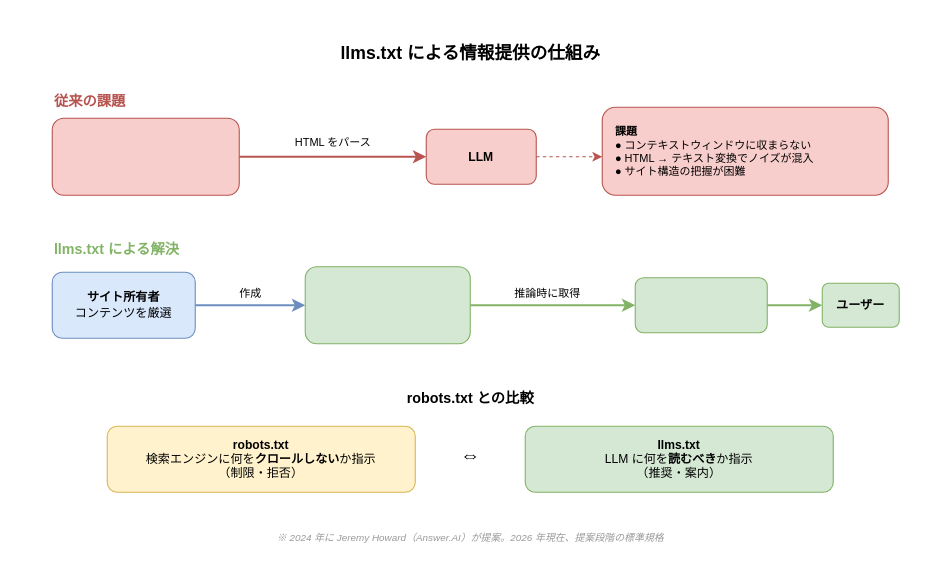
Image size: 939x587. Some labels were removed from this diagram. The centre of each missing label's shape, as x and y in pixels:
"/llms.txt Markdown 形式 構造化された情報" belongs at point 387,305.
"LLM 正確なコンテキスト" belongs at point 700,305.
"Web サイト HTML / CSS / JS ナビゲーション / 広告" belongs at point 145,156.
